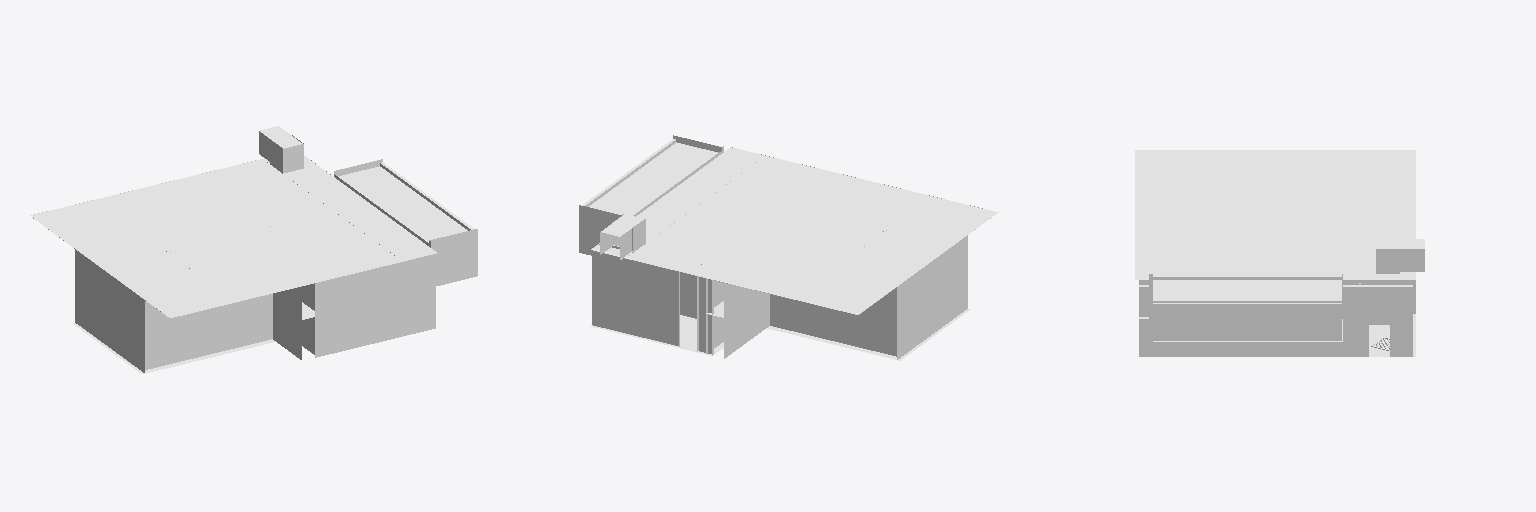
The model's file is LC_cont1_173.obj.
The picture shows the model from 3 angles: view 1: azimuth 30°, elevation 25°; view 2: azimuth 150°, elevation 25°; view 3: azimuth 270°, elevation 25°; orthographic projection.
Parts seen in each view (by area): view 1: LC_cont1_173; view 2: LC_cont1_173; view 3: LC_cont1_173.
Part boxes in pixels (x1,y1,x2,y2): LC_cont1_173: (30, 126, 477, 373); LC_cont1_173: (579, 135, 998, 360); LC_cont1_173: (1135, 150, 1424, 356).
Size of the model in its own units: 33.28 by 10.8 by 26.4.